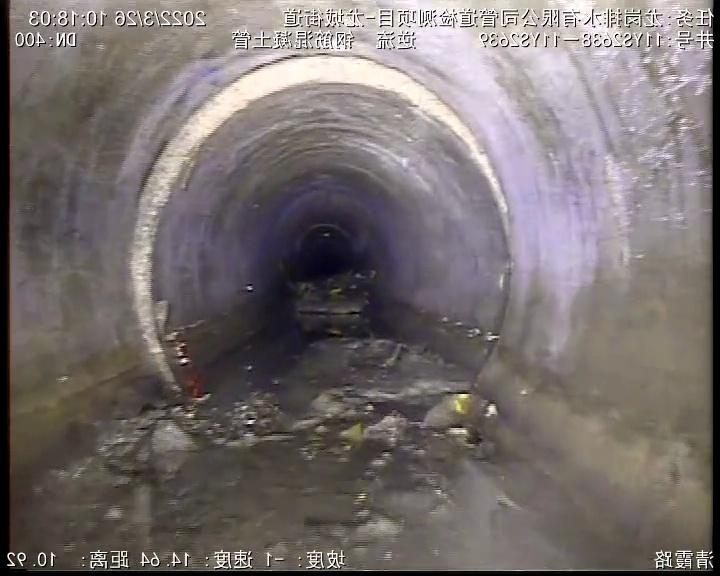CJ: (10, 269, 543, 568)
CKTJ: (131, 55, 509, 382)
